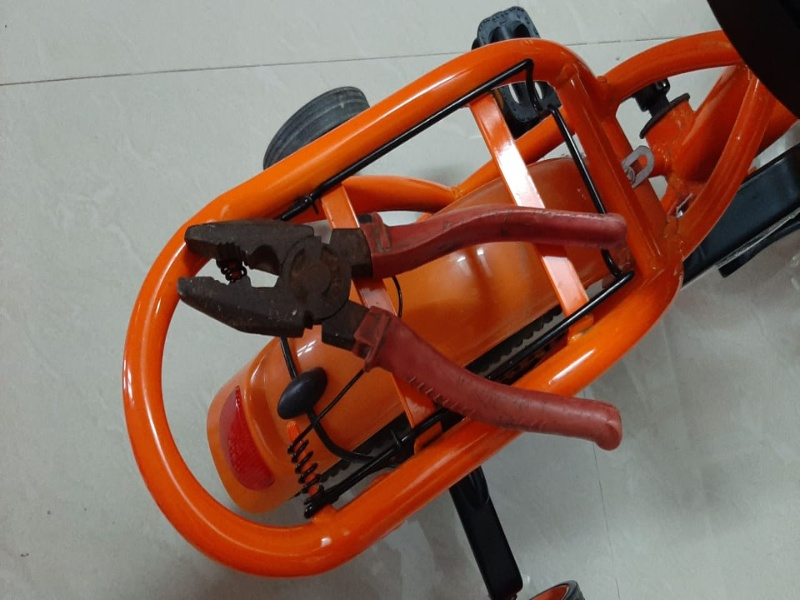cuttingplier: (179, 205, 638, 456)
